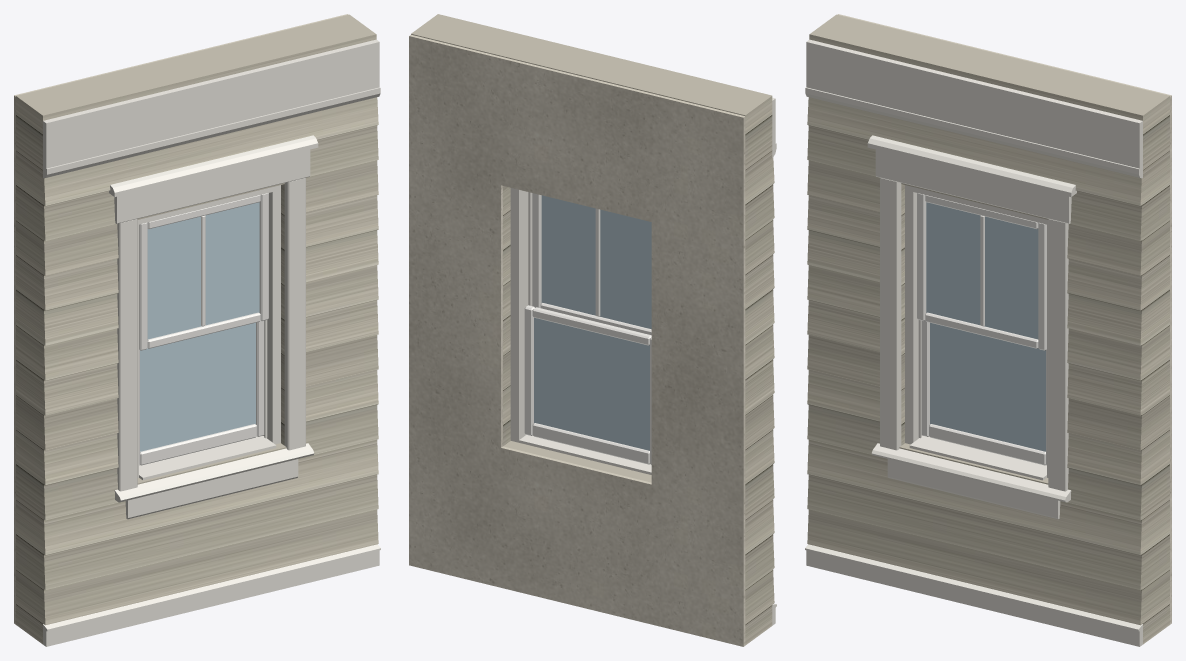
The model's file is h_win1_ns.glb.
3 views of the same model, side by side, from view 1: azimuth 30°, elevation 25°; view 2: azimuth 150°, elevation 25°; view 3: azimuth 330°, elevation 25° (orthographic).
Visible parts, largest first — view 1: h_win1_ns_siding, h_win1_ns_trim, h_win1_ns_glass, h_win1_ns_sash, h_win1_ns_frame, h_win1_ns_plaster; view 2: h_win1_ns_plaster, h_win1_ns_siding, h_win1_ns_glass, h_win1_ns_sash, h_win1_ns_frame, h_win1_ns_trim; view 3: h_win1_ns_siding, h_win1_ns_trim, h_win1_ns_glass, h_win1_ns_sash, h_win1_ns_frame, h_win1_ns_plaster.
Part boxes in pixels (x1,y1,x2,y2): h_win1_ns_siding: (16, 14, 378, 644); h_win1_ns_trim: (43, 39, 380, 646); h_win1_ns_glass: (140, 202, 259, 451); h_win1_ns_sash: (139, 193, 268, 465); h_win1_ns_frame: (137, 185, 280, 477); h_win1_ns_plaster: (14, 14, 348, 624); h_win1_ns_plaster: (409, 34, 745, 646); h_win1_ns_siding: (411, 14, 774, 645); h_win1_ns_glass: (534, 195, 651, 450); h_win1_ns_sash: (524, 193, 651, 464); h_win1_ns_frame: (510, 188, 532, 442); h_win1_ns_trim: (519, 97, 776, 625); h_win1_ns_siding: (807, 14, 1169, 644); h_win1_ns_trim: (805, 39, 1142, 646); h_win1_ns_glass: (926, 202, 1045, 451); h_win1_ns_sash: (917, 193, 1046, 465); h_win1_ns_frame: (905, 185, 1048, 477); h_win1_ns_plaster: (837, 14, 1171, 624).
Size of the model in its own units: 2 by 3.03 by 0.382.
Materials: 6 (2 with a texture image).
